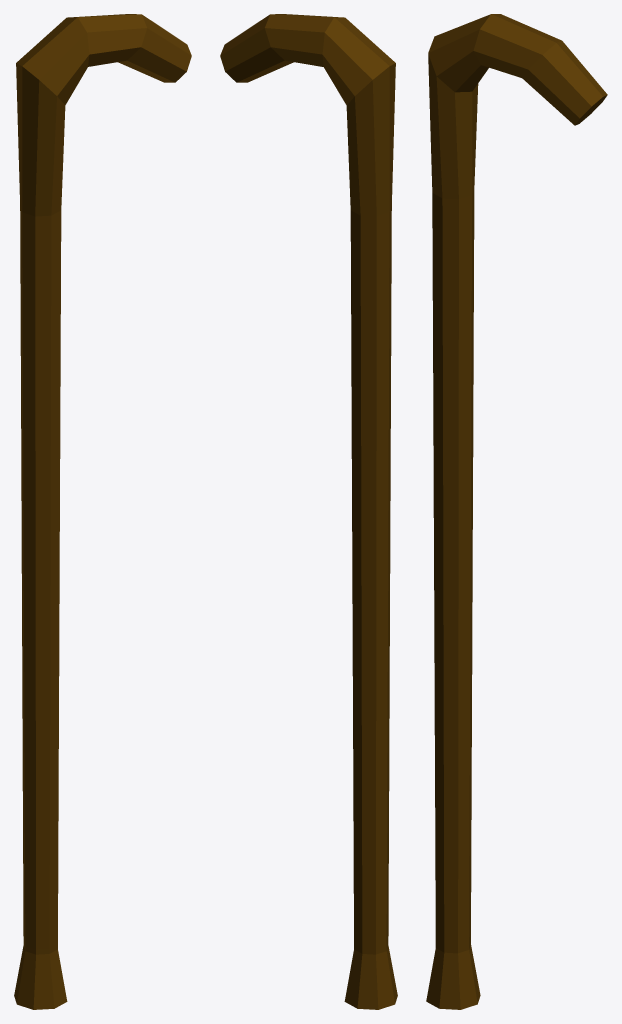
File: Bengala.fbx
The picture shows the model from 3 angles, left to right: view 1: azimuth 30°, elevation 25°; view 2: azimuth 150°, elevation 25°; view 3: azimuth 330°, elevation 25°; orthographic projection. The views are drawn at different scales.
Visible parts, largest first — view 1: Cylinder; view 2: Cylinder; view 3: Cylinder.
Part boxes in pixels (x1,y1,x2,y2): Cylinder: (14,14,191,1009); Cylinder: (220,14,397,1009); Cylinder: (426,14,607,1009).
Size of the model in its own units: 18.85 by 103 by 6.28.
